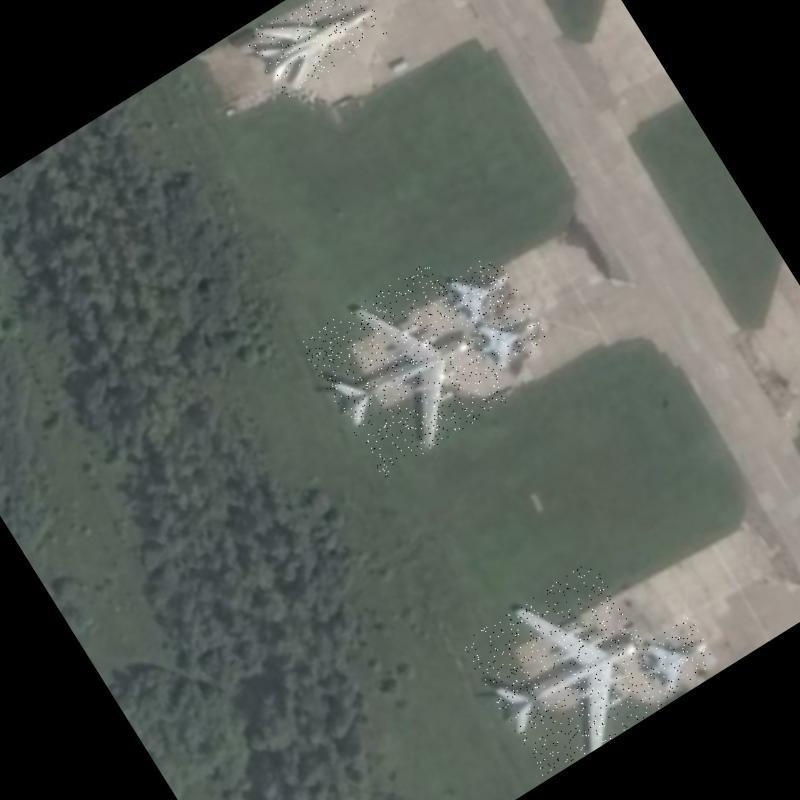A1: (630, 615, 720, 700), (438, 252, 522, 331), (466, 297, 550, 376)
A12: (243, 0, 391, 100)
A17: (458, 559, 678, 780), (297, 261, 512, 479)
